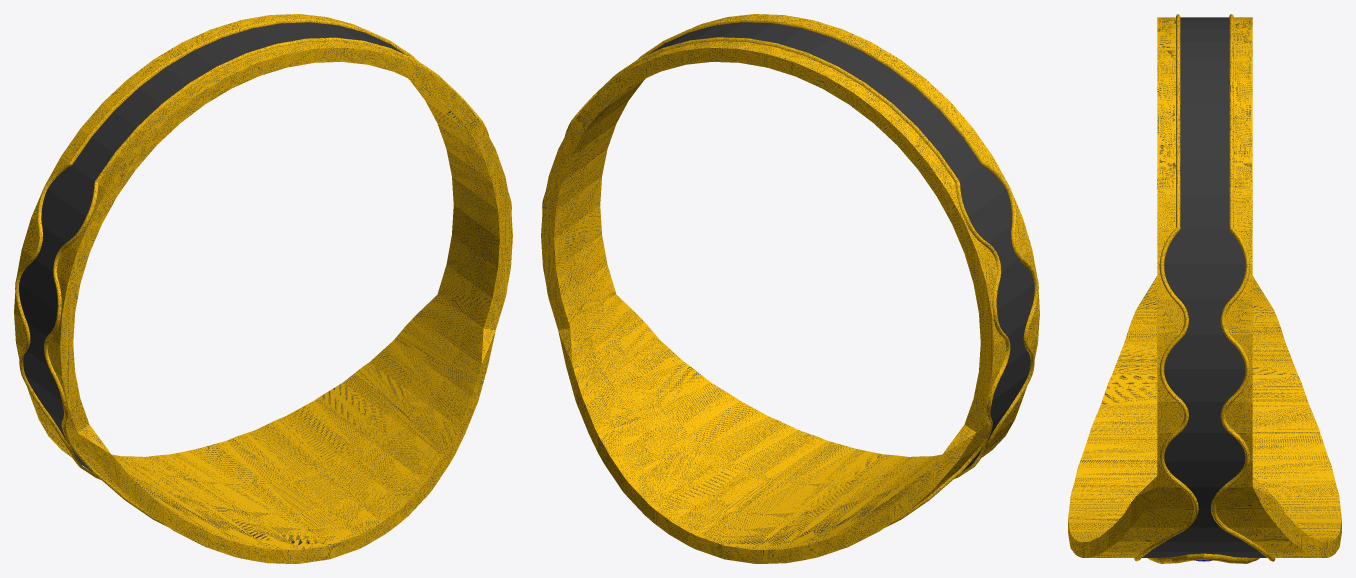
3 renders of one model, left to right at view 1: azimuth 30°, elevation 25°; view 2: azimuth 150°, elevation 25°; view 3: azimuth 270°, elevation 25°, orthographic. The views are drawn at different scales.
Parts seen in each view (by area): view 1: vilya; view 2: vilya; view 3: vilya.
Boxes of the visible parts, box(x1,y1,x2,y2) form: vilya: box(14, 14, 512, 563); vilya: box(541, 14, 1039, 563); vilya: box(1068, 14, 1341, 563).
Bounding box in the file's own units: 0.8197 × 0.8462 × 0.4097.
